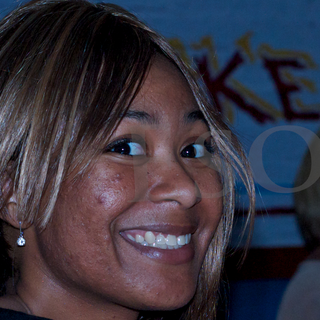eye: (100, 135, 144, 162), (174, 138, 211, 163)
